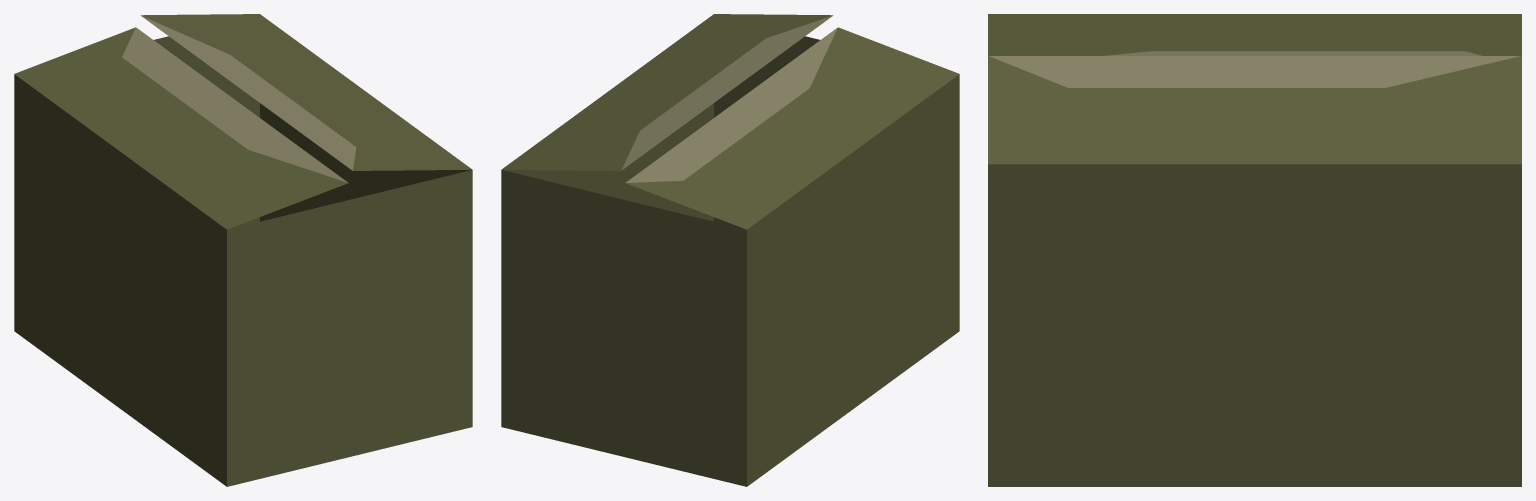
The model's file is cardboardBox_01.FBX.
3 renders of one model, left to right at view 1: azimuth 30°, elevation 25°; view 2: azimuth 150°, elevation 25°; view 3: azimuth 270°, elevation 25°, orthographic. The views are drawn at different scales.
Parts seen in each view (by area): view 1: CardboardBox; view 2: CardboardBox; view 3: CardboardBox.
Part boxes in pixels (x1,y1,x2,y2): CardboardBox: [14, 14, 472, 486]; CardboardBox: [501, 14, 959, 486]; CardboardBox: [988, 14, 1521, 486].
Size of the model in its own units: 20 by 22.18 by 30.
